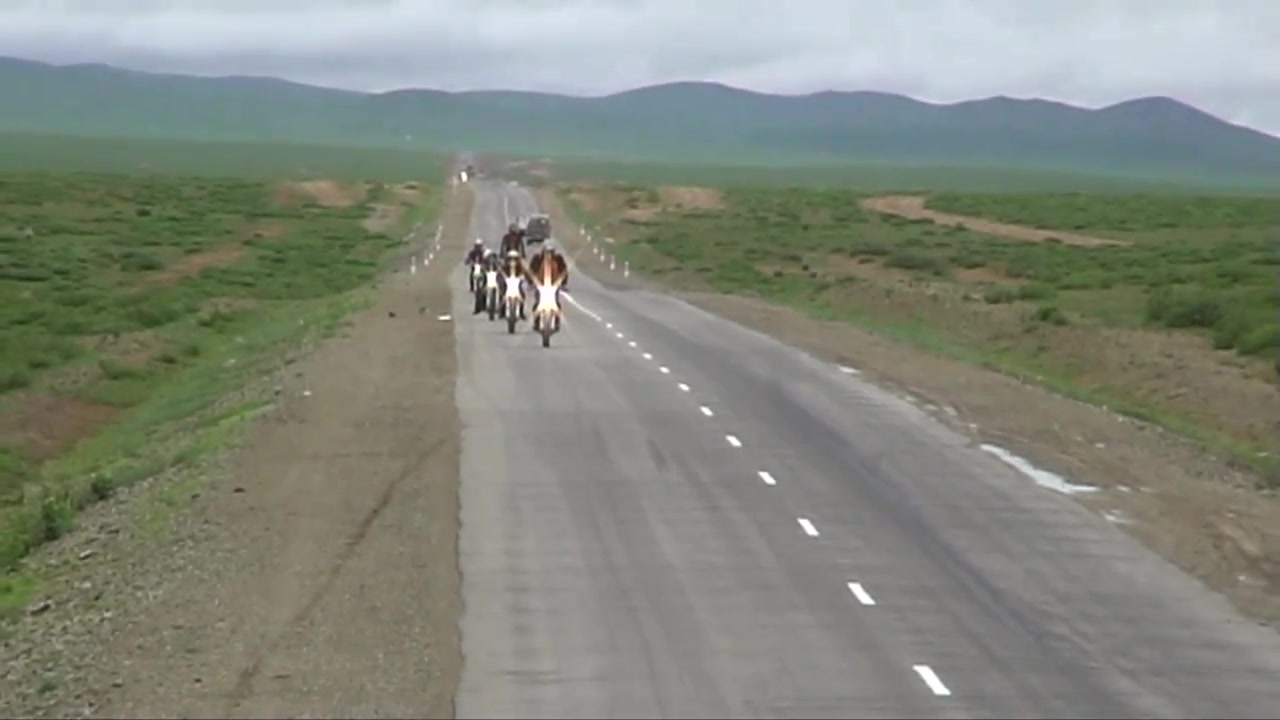motorbike: (524, 263, 572, 347), (490, 261, 529, 336), (462, 246, 493, 292), (470, 268, 491, 318), (497, 244, 527, 265)
